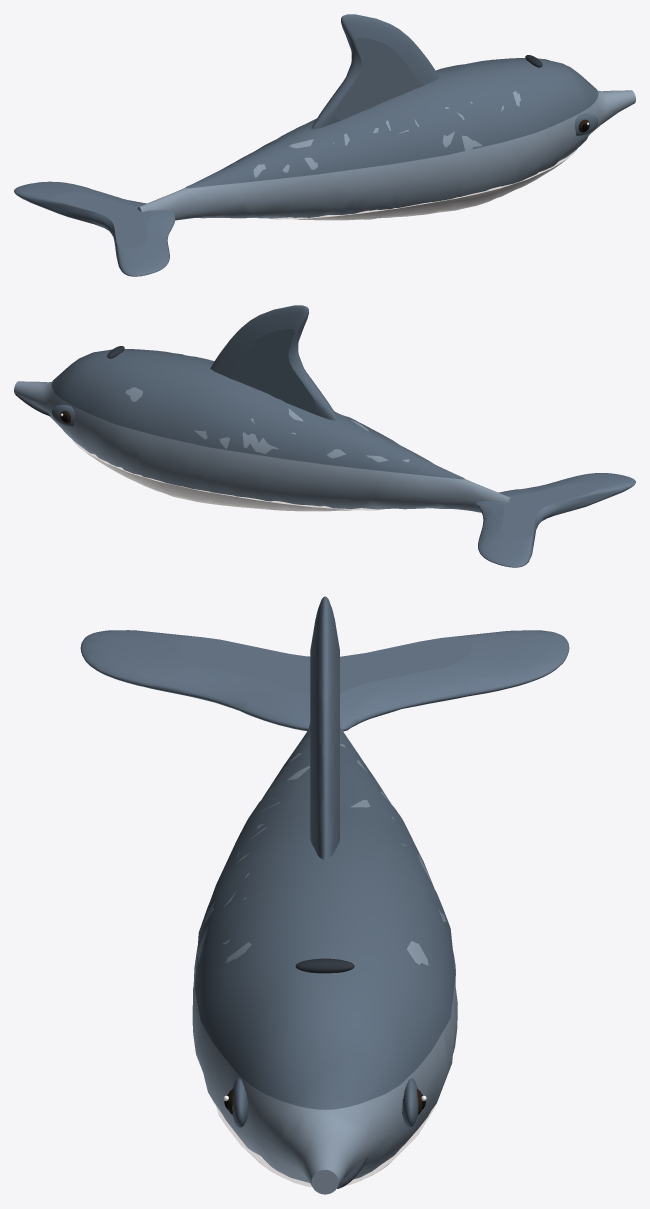
File: dolphin.glb
3 renders of one model, top to bottom at view 1: azimuth 30°, elevation 25°; view 2: azimuth 150°, elevation 25°; view 3: azimuth 270°, elevation 25°, orthographic. The views are drawn at different scales.
Visible parts, largest first — view 1: Cape, Body, Dorsal, Flukes, Belly; view 2: Cape, Body, Dorsal, Flukes, Belly; view 3: Cape, Flukes, Body, Dorsal, EyePatches, Belly.
Boxes of the visible parts, left/top/right/bottom form: Cape: left=185, top=58, right=598, bottom=188; Body: left=137, top=90, right=635, bottom=220; Dorsal: left=311, top=14, right=439, bottom=129; Flukes: left=14, top=181, right=175, bottom=276; Belly: left=268, top=149, right=577, bottom=220; Cape: left=51, top=349, right=464, bottom=479; Body: left=14, top=381, right=512, bottom=512; Dorsal: left=210, top=305, right=338, bottom=420; Flukes: left=475, top=473, right=635, bottom=567; Belly: left=72, top=440, right=381, bottom=511; Cape: left=195, top=727, right=455, bottom=1109; Flukes: left=80, top=630, right=569, bottom=731; Body: left=192, top=722, right=457, bottom=1194; Dorsal: left=310, top=596, right=339, bottom=859; EyePatches: left=232, top=1078, right=418, bottom=1127; Belly: left=215, top=1105, right=435, bottom=1187.
Bounding box in the file's own units: 0.1141 × 0.0416 × 0.0429.
